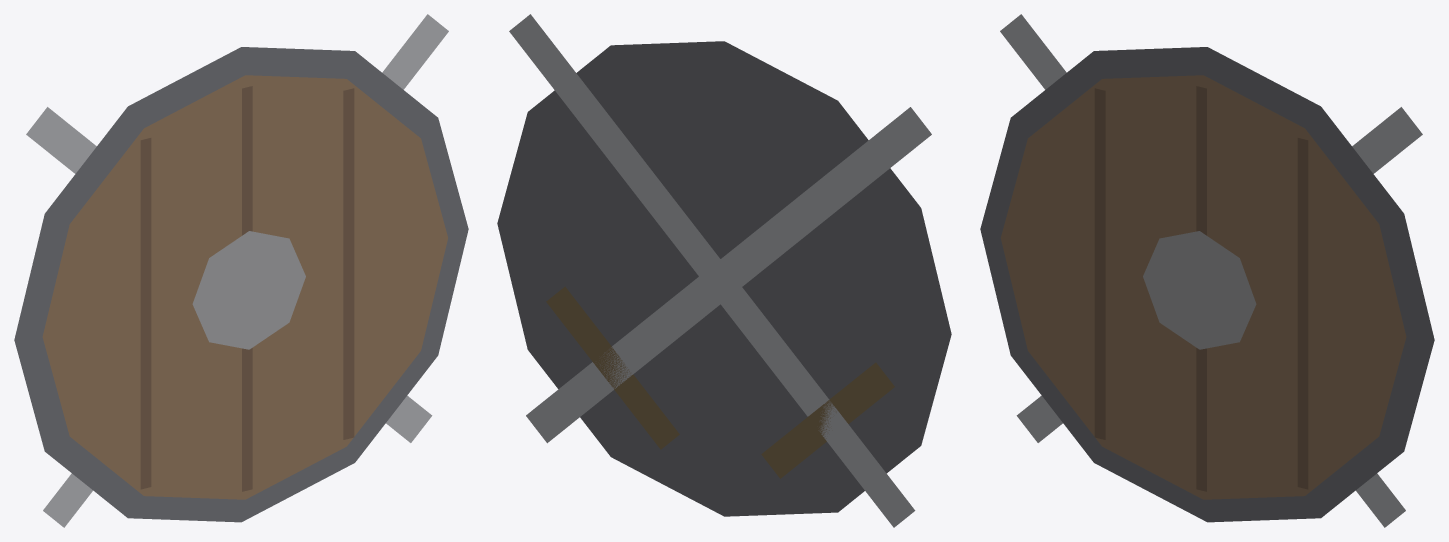
The model's file is espadas_escudo.glb.
The picture shows the model from 3 angles, left to right: view 1: azimuth 30°, elevation 25°; view 2: azimuth 150°, elevation 25°; view 3: azimuth 330°, elevation 25°; orthographic projection.
Visible parts, largest first — view 1: Malha_0; view 2: Malha_0; view 3: Malha_0.
Boxes of the visible parts, bbox=[...] form: Malha_0: bbox=[14, 14, 468, 527]; Malha_0: bbox=[497, 14, 951, 527]; Malha_0: bbox=[980, 14, 1434, 527].
Size of the model in its own units: 0.672 by 0.672 by 0.03.
